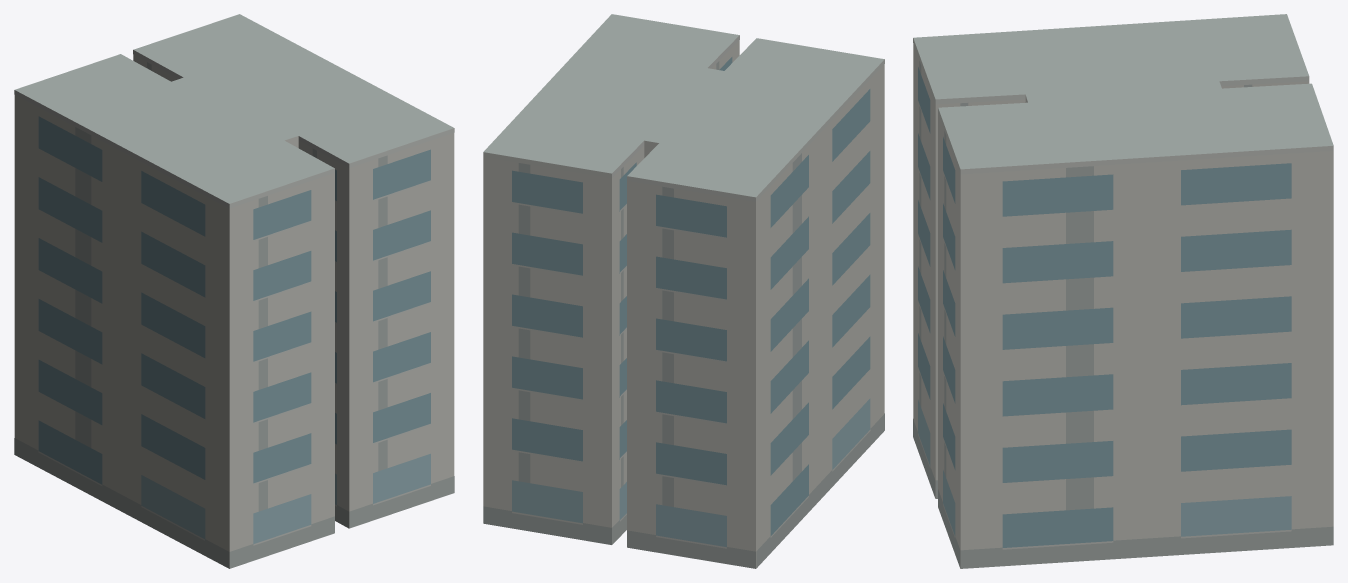
The model's file is survey-upis-32575261.glb.
3 views of the same model, side by side, from view 1: azimuth 30°, elevation 25°; view 2: azimuth 150°, elevation 25°; view 3: azimuth 270°, elevation 25° (orthographic). The views are drawn at different scales.
Visible parts, largest first — view 1: survey-upis-32575261.tmp; view 2: survey-upis-32575261.tmp; view 3: survey-upis-32575261.tmp.
Part boxes in pixels (x1,y1,x2,y2): survey-upis-32575261.tmp: (14,14,454,568); survey-upis-32575261.tmp: (483,14,884,568); survey-upis-32575261.tmp: (913,14,1333,568).
Size of the model in its own units: 15.69 by 18.8 by 17.95.
